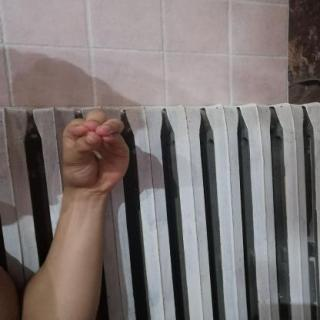HA: (49, 104, 140, 201)
